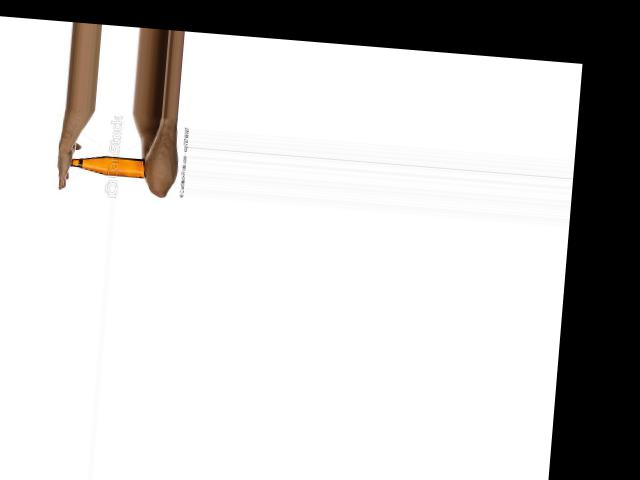beer: (68, 151, 145, 178)
